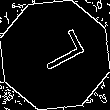L_SW: (26, 30, 84, 80)
